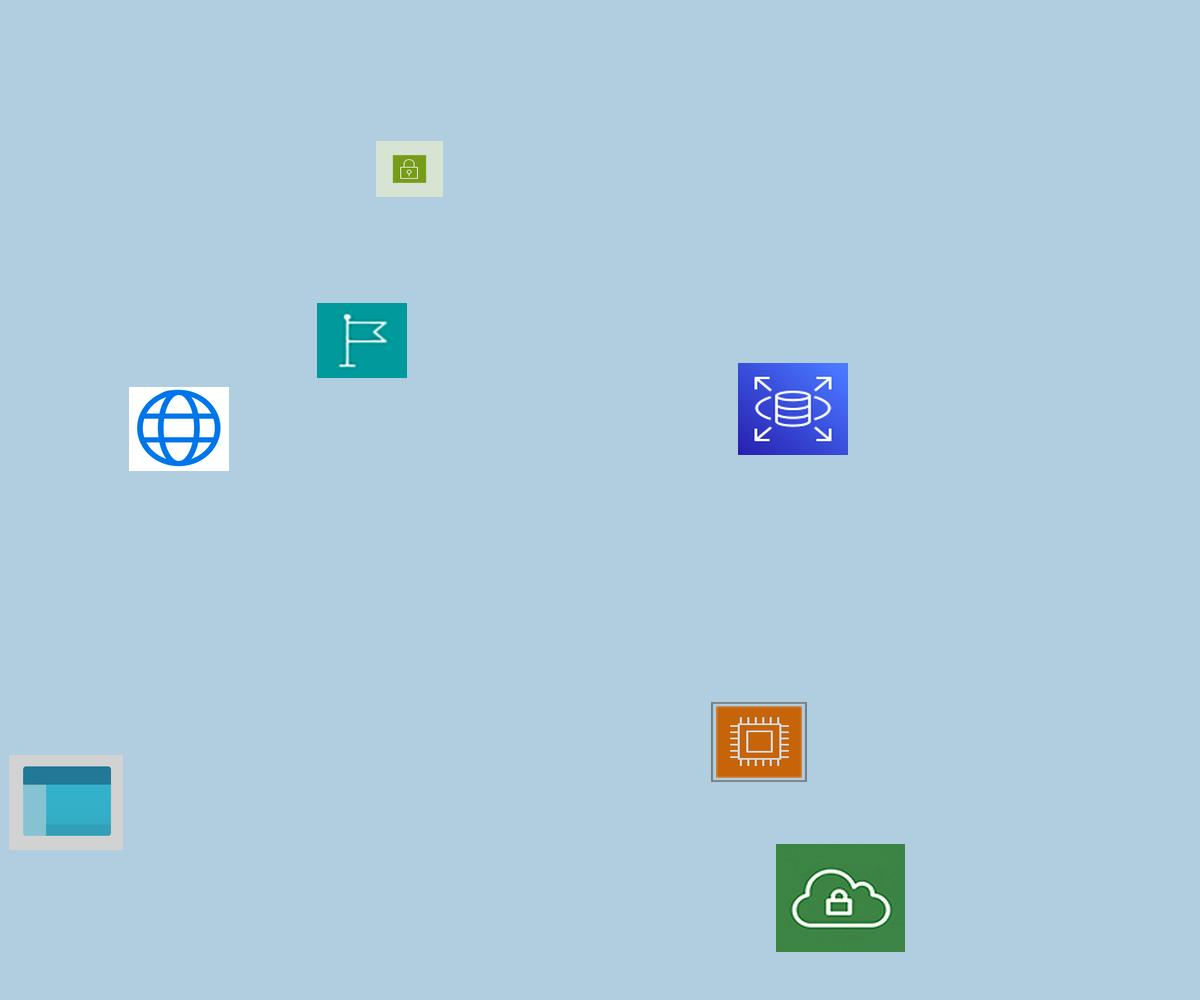AWS-Category_Compute: (711, 702, 807, 782)
AWS-Private_vpc: (776, 844, 905, 952)
AWS-Public-subnet: (376, 141, 443, 197)
AWS-RDS: (738, 363, 848, 455)
AWS-Region: (317, 303, 407, 378)
Azure_http: (129, 387, 229, 471)
Azure_management-portal: (9, 755, 123, 850)
